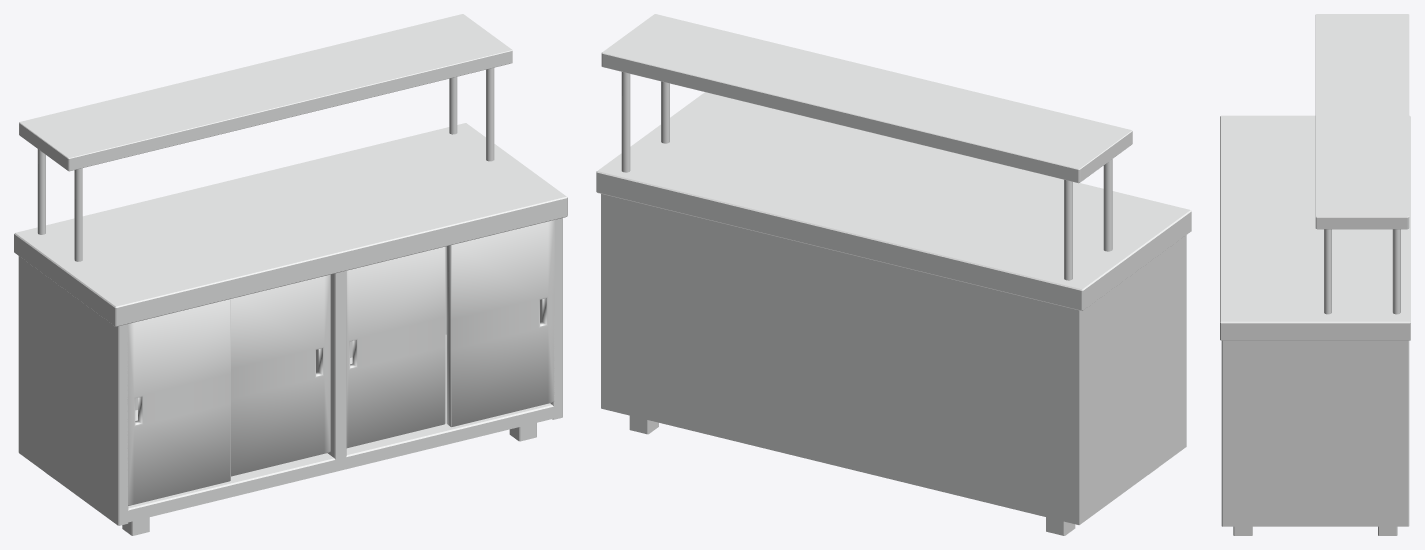
Rendered from Meja Plating.fbx.
The picture shows the model from 3 angles, left to right: view 1: azimuth 30°, elevation 25°; view 2: azimuth 150°, elevation 25°; view 3: azimuth 270°, elevation 25°; orthographic projection. The views are drawn at different scales.
Visible parts, largest first — view 1: Meja Plating; view 2: Meja Plating; view 3: Meja Plating.
Part boxes in pixels (x1,y1,x2,y2): Meja Plating: (14,14,567,535); Meja Plating: (596,14,1191,535); Meja Plating: (1220,14,1410,535).
Bounding box in the file's own units: 183 × 135 × 71.27.
1 material, 1 textured.
